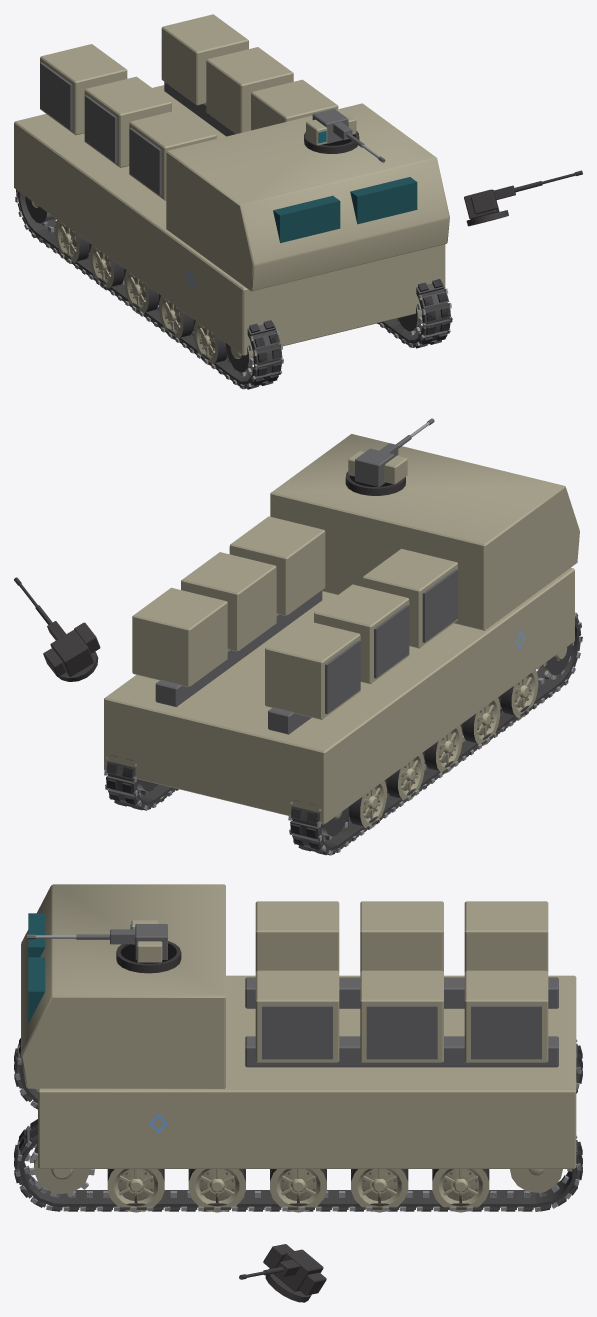
File: mineLayer__skorpion_mine_dispenser.glb
3 views of the same model, one above another, from view 1: azimuth 30°, elevation 25°; view 2: azimuth 150°, elevation 25°; view 3: azimuth 270°, elevation 25° (orthographic). The views are drawn at different scales.
Parts seen in each view (by area): view 1: Hull_Mesh, Wreck, Track_L_Mesh, Track_R_Mesh, Turret_Mesh, Wheel_L1_Mesh, Wheel_L2_Mesh, Wheel_L0_Mesh, Wheel_L3_Mesh, Wheel_L4_Mesh, Sprocket_L_Mesh; view 2: Hull_Mesh, Wreck, Track_L_Mesh, Track_R_Mesh, Turret_Mesh, Wheel_L2_Mesh, Wheel_L3_Mesh, Wheel_L0_Mesh, Wheel_L1_Mesh, Wheel_L4_Mesh, Sprocket_L_Mesh; view 3: Hull_Mesh, Track_R_Mesh, Wreck, Wheel_R4_Mesh, Wheel_R0_Mesh, Wheel_R1_Mesh, Wheel_R3_Mesh, Wheel_R2_Mesh, Sprocket_R_Mesh, Turret_Mesh, Idler_R_Mesh, Track_L_Mesh (+1 smaller).
Part boxes in pixels (x1=…): Hull_Mesh: x1=14, y1=14, x2=449, y2=355; Wreck: x1=15, y1=131, x2=582, y2=389; Track_L_Mesh: x1=15, y1=189, x2=283, y2=389; Track_R_Mesh: x1=378, y1=280, x2=451, y2=348; Turret_Mesh: x1=306, y1=108, x2=356, y2=145; Wheel_L1_Mesh: x1=89, y1=245, x2=126, y2=288; Wheel_L2_Mesh: x1=124, y1=270, x2=160, y2=313; Wheel_L0_Mesh: x1=55, y1=220, x2=91, y2=263; Wheel_L3_Mesh: x1=159, y1=296, x2=195, y2=339; Wheel_L4_Mesh: x1=193, y1=321, x2=227, y2=365; Sprocket_L_Mesh: x1=224, y1=342, x2=253, y2=376; Hull_Mesh: x1=104, y1=434, x2=579, y2=824; Wreck: x1=14, y1=471, x2=582, y2=855; Track_L_Mesh: x1=288, y1=612, x2=582, y2=855; Track_R_Mesh: x1=104, y1=755, x2=178, y2=810; Turret_Mesh: x1=348, y1=448, x2=407, y2=486; Wheel_L2_Mesh: x1=422, y1=725, x2=462, y2=773; Wheel_L3_Mesh: x1=460, y1=698, x2=500, y2=745; Wheel_L0_Mesh: x1=346, y1=781, x2=386, y2=827; Wheel_L1_Mesh: x1=384, y1=753, x2=424, y2=801; Wheel_L4_Mesh: x1=498, y1=670, x2=538, y2=717; Sprocket_L_Mesh: x1=537, y1=642, x2=573, y2=679; Hull_Mesh: x1=21, y1=884, x2=576, y2=1168; Track_R_Mesh: x1=14, y1=1120, x2=582, y2=1211; Wreck: x1=14, y1=941, x2=582, y2=1302; Wheel_R4_Mesh: x1=107, y1=1169, x2=164, y2=1212; Wheel_R0_Mesh: x1=432, y1=1169, x2=489, y2=1212; Wheel_R1_Mesh: x1=351, y1=1169, x2=408, y2=1212; Wheel_R3_Mesh: x1=188, y1=1169, x2=245, y2=1212; Wheel_R2_Mesh: x1=270, y1=1169, x2=326, y2=1212; Sprocket_R_Mesh: x1=29, y1=1143, x2=94, y2=1197; Turret_Mesh: x1=130, y1=920, x2=167, y2=962; Idler_R_Mesh: x1=510, y1=1169, x2=562, y2=1192; Track_L_Mesh: x1=14, y1=1038, x2=582, y2=1109.
Size of what is drawn, in the model's own units: 5.98 by 2.82 by 5.89.
